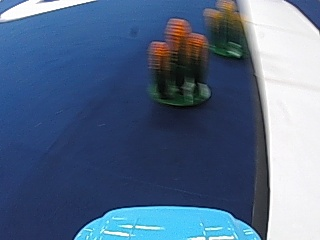corn: (147, 15, 211, 111), (204, 0, 245, 58)
